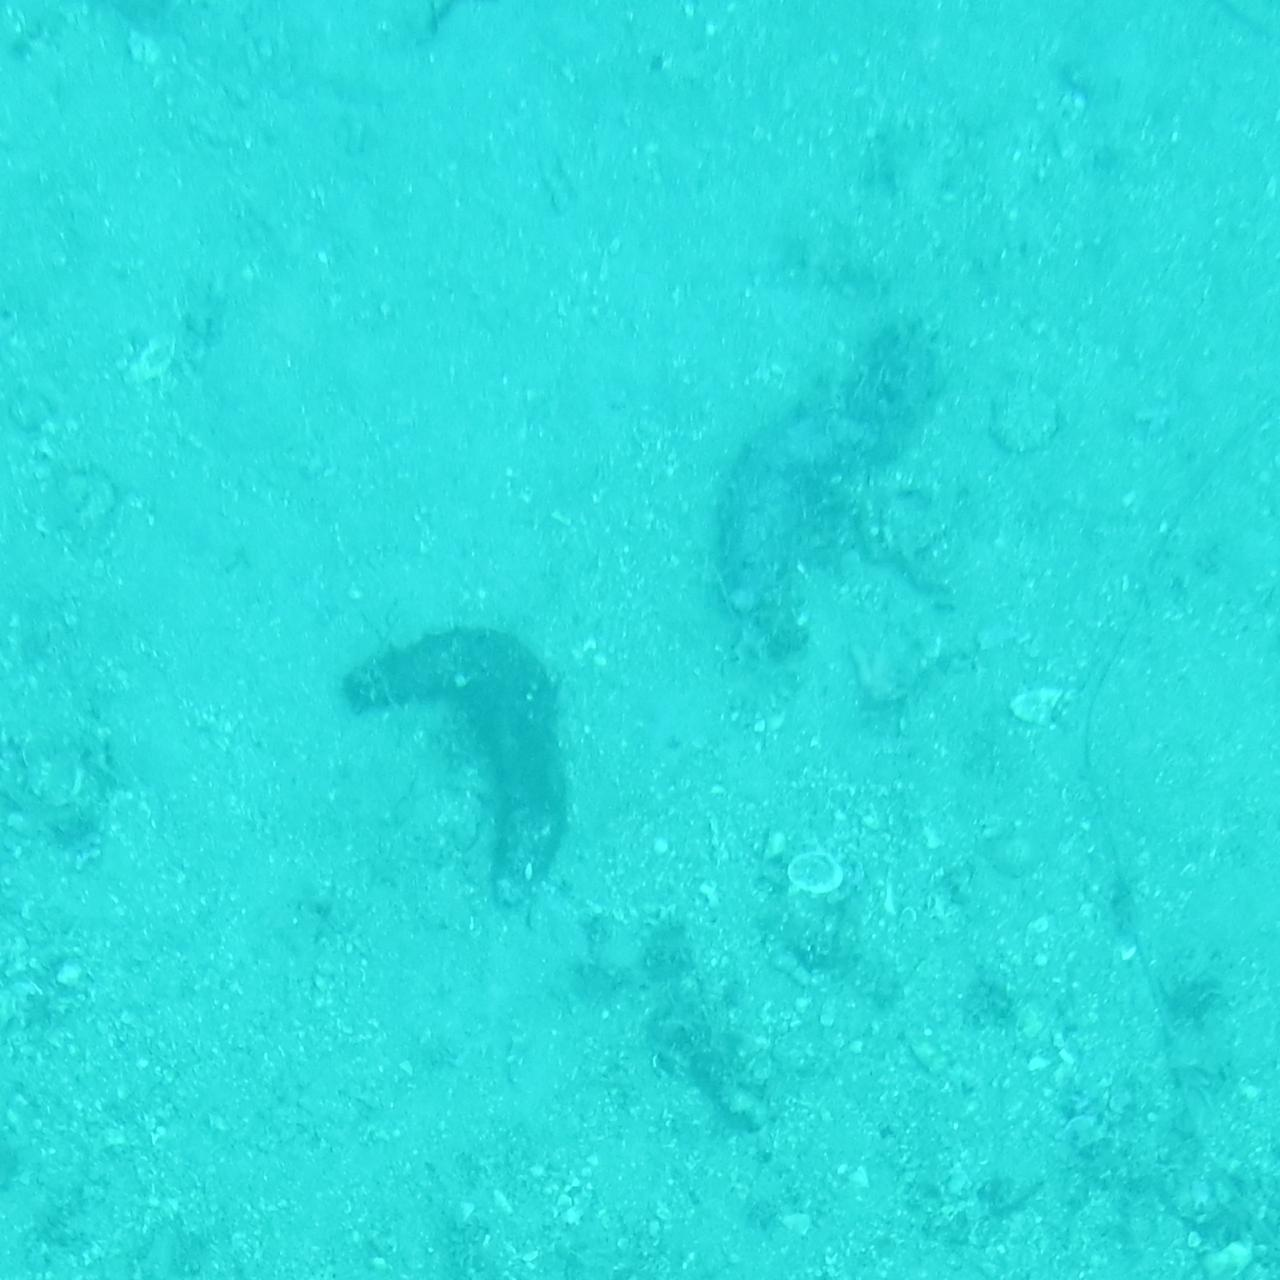Holothuria tubulosa: (338, 610, 578, 948), (712, 354, 933, 649)
